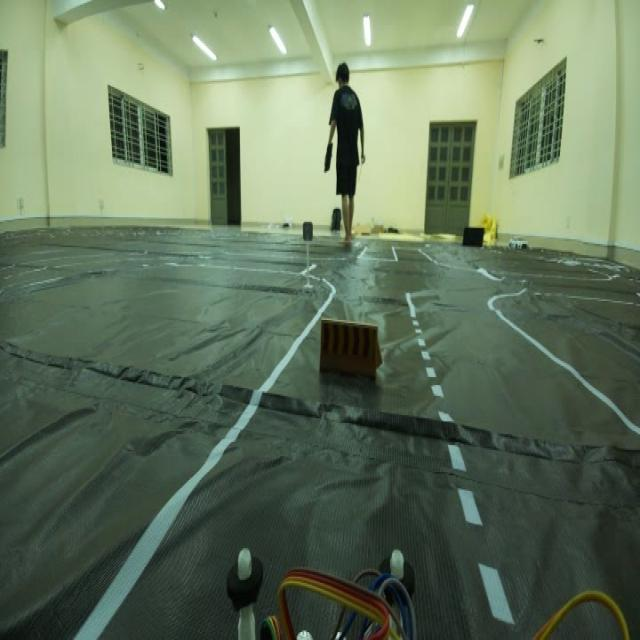roadblock: (314, 304, 389, 398)
